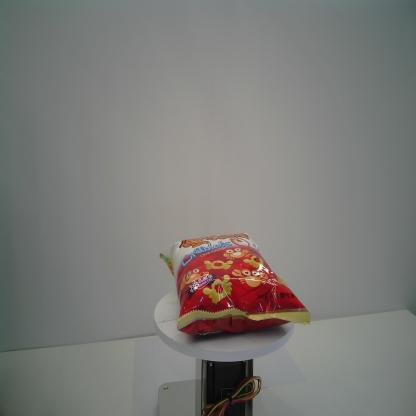Puffed Food: (160, 232, 310, 339)
